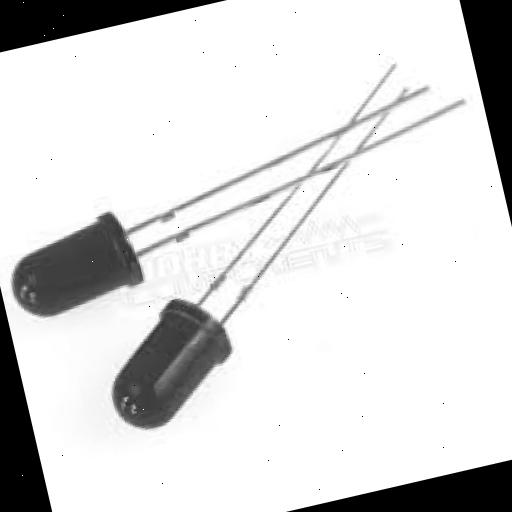LED: (0, 148, 322, 343), (86, 262, 338, 500)
